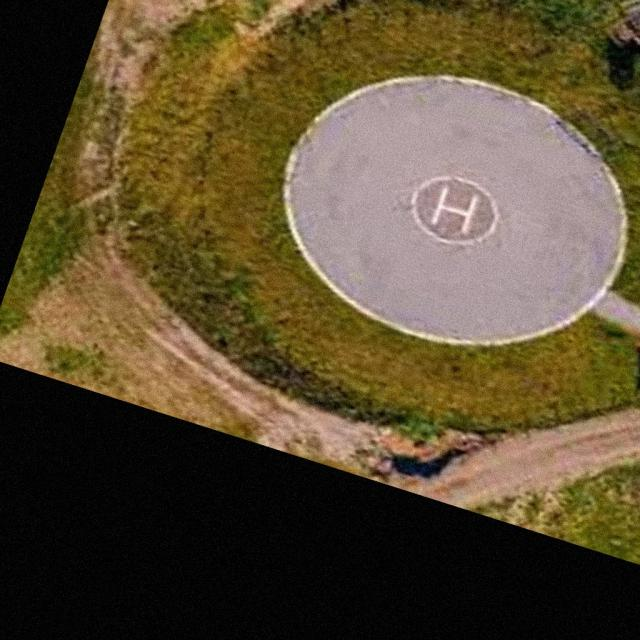helipad: (407, 170, 502, 248)
